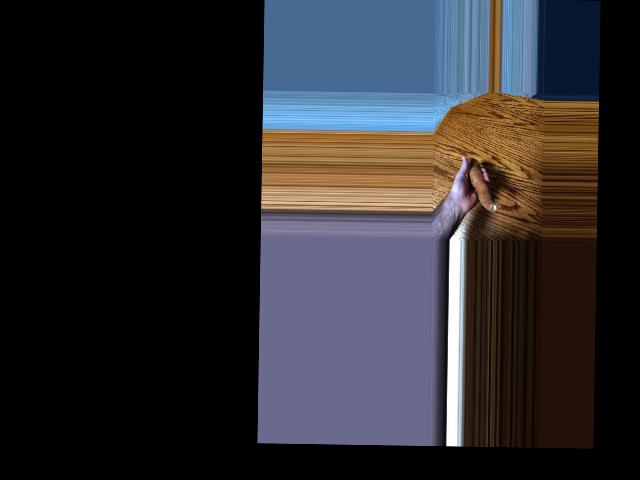sweet_potato: (467, 160, 497, 214)
